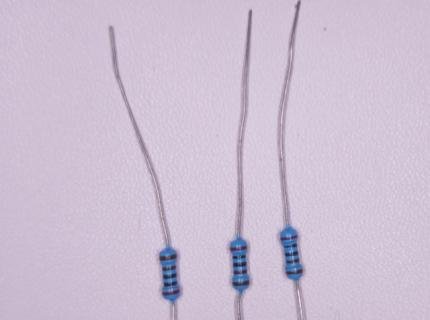Black band: (164, 272, 176, 279), (164, 281, 178, 286), (283, 243, 297, 248), (233, 262, 246, 267), (285, 251, 298, 256), (233, 255, 246, 259)
Brown band: (285, 268, 303, 275), (159, 254, 177, 261), (232, 280, 250, 286), (163, 264, 176, 271), (286, 258, 299, 263), (234, 269, 247, 274)
Red band: (162, 288, 180, 295), (280, 235, 298, 241), (230, 246, 247, 251)
